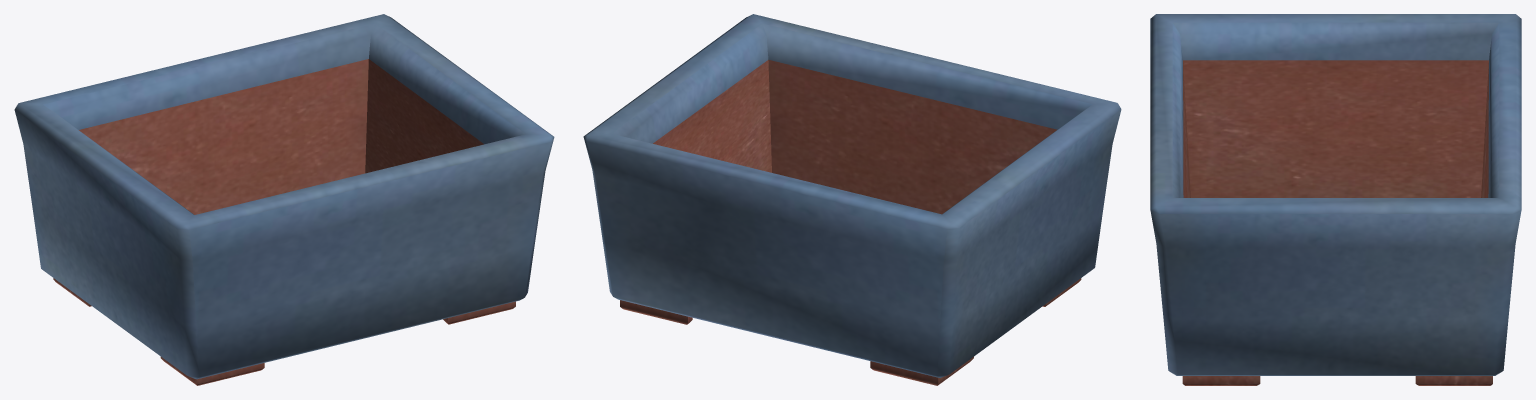
Rendered from bonsai_hachi01.fbx.
3 views of the same model, side by side, from view 1: azimuth 30°, elevation 25°; view 2: azimuth 150°, elevation 25°; view 3: azimuth 270°, elevation 25° (orthographic). The views are drawn at different scales.
Visible parts, largest first — view 1: bonsai_bachi_01; view 2: bonsai_bachi_01; view 3: bonsai_bachi_01.
Part boxes in pixels (x1,y1,x2,y2): bonsai_bachi_01: [14, 14, 554, 385]; bonsai_bachi_01: [583, 14, 1121, 385]; bonsai_bachi_01: [1150, 14, 1521, 385].
Size of the model in its own units: 13.9 by 6.25 by 10.96.
